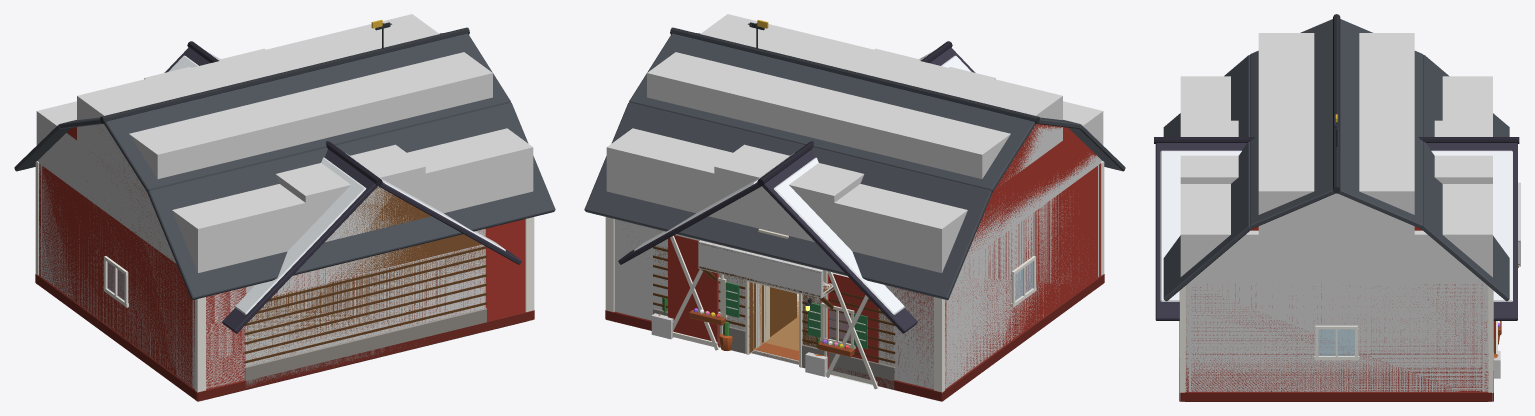
Rendered from maisons_carte_v001.glb.
3 renders of one model, left to right at view 1: azimuth 30°, elevation 25°; view 2: azimuth 150°, elevation 25°; view 3: azimuth 270°, elevation 25°, orthographic. The views are drawn at different scales.
Parts seen in each view (by area): view 1: maison_grange_maillage, COL_grange_toit_haut, maison_chalet_maillage, COL_grange_plafond_toit_bas, COL_chalet_mur_arriere, COL_grange_mur_gauche, COL_chalet_toit_haut, COL_chalet_plafond_toit_bas, COL_grange_mur_arriere; view 2: maison_grange_maillage, COL_grange_toit_haut, COL_grange_plafond_toit_bas, maison_chalet_maillage, COL_grange_mur_gauche, COL_chalet_toit_haut, COL_grange_mur_avant_droit, COL_grange_mur_avant_gauche, COL_chalet_balcon_garde_corps, maison_quartier_maillage, COL_chalet_plafond_toit_bas, COL_chalet_mur_avant_droit (+4 smaller); view 3: maison_grange_maillage, COL_grange_mur_droit, COL_grange_plafond_toit_bas, COL_grange_toit_haut, maison_chalet_maillage, COL_chalet_toit_haut, COL_grange_mur_avant_droit, COL_grange_mur_arriere.
Boxes of the visible parts, x1,y1,x2,y2 form: maison_grange_maillage: [14, 20, 555, 401]; COL_grange_toit_haut: [77, 14, 492, 190]; maison_chalet_maillage: [164, 41, 521, 387]; COL_grange_plafond_toit_bas: [36, 101, 533, 272]; COL_chalet_mur_arriere: [245, 244, 485, 366]; COL_grange_mur_gauche: [41, 164, 193, 387]; COL_chalet_toit_haut: [144, 48, 425, 231]; COL_chalet_plafond_toit_bas: [245, 195, 485, 295]; COL_grange_mur_arriere: [193, 287, 245, 389]; maison_grange_maillage: [584, 20, 1125, 401]; COL_grange_toit_haut: [647, 14, 1062, 184]; COL_grange_plafond_toit_bas: [606, 101, 1103, 272]; maison_chalet_maillage: [618, 41, 975, 389]; COL_grange_mur_gauche: [946, 164, 1098, 387]; COL_chalet_toit_haut: [714, 48, 995, 231]; COL_grange_mur_avant_droit: [614, 219, 720, 320]; COL_grange_mur_avant_gauche: [879, 285, 946, 389]; COL_chalet_balcon_garde_corps: [698, 240, 823, 294]; maison_quartier_maillage: [755, 285, 798, 360]; COL_chalet_plafond_toit_bas: [654, 196, 894, 294]; COL_chalet_mur_avant_droit: [654, 244, 753, 354]; maison_grange_maillage: [1163, 14, 1509, 401]; COL_grange_mur_droit: [1190, 283, 1483, 391]; COL_grange_plafond_toit_bas: [1180, 76, 1492, 282]; COL_grange_toit_haut: [1258, 33, 1414, 234]; maison_chalet_maillage: [1154, 137, 1519, 369]; COL_chalet_toit_haut: [1180, 120, 1492, 183]; COL_grange_mur_avant_droit: [1483, 283, 1488, 391]; COL_grange_mur_arriere: [1185, 283, 1189, 391].
Size of the model in its own units: 13.1 by 8.92 by 11.75.
